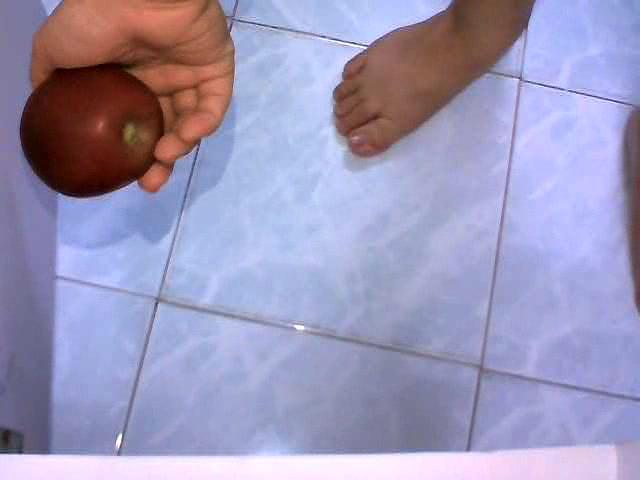apple: (19, 63, 166, 199)
